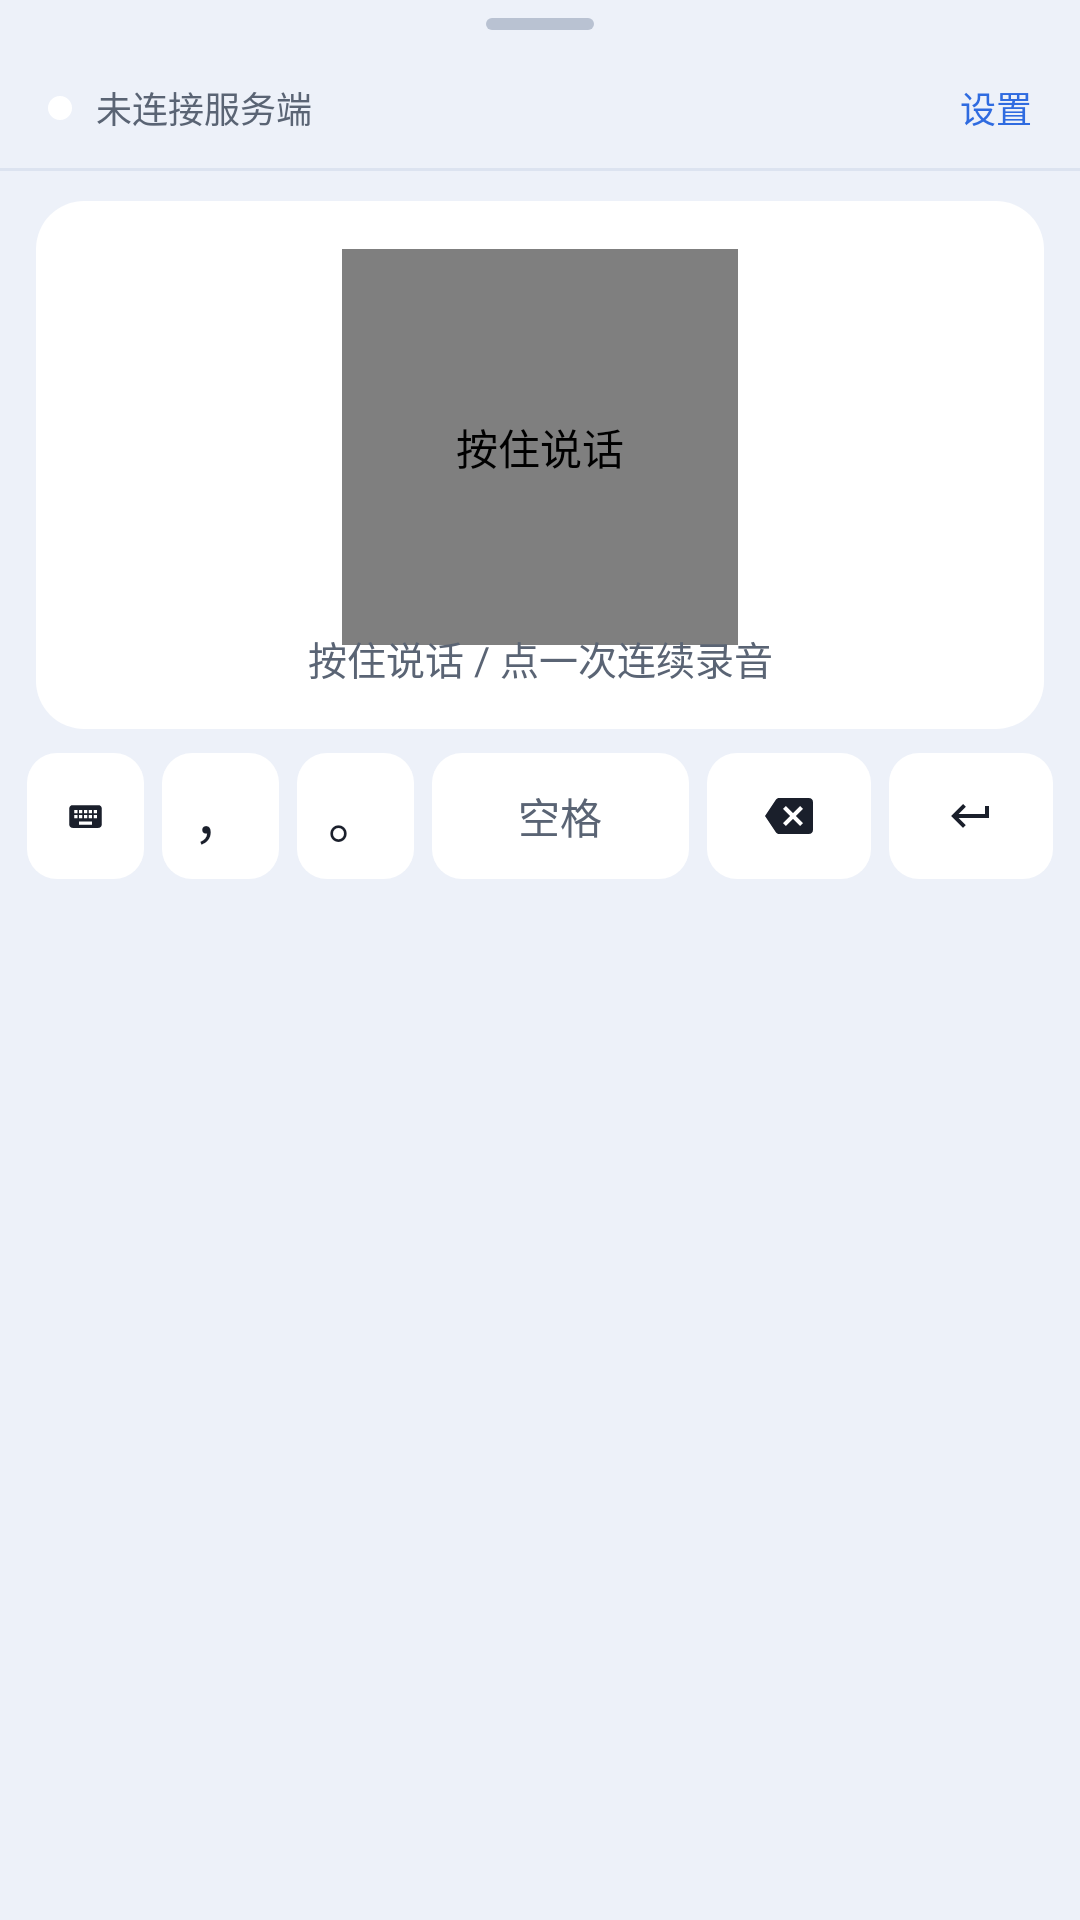

Icon click points for this 1080x1920 phone screenshot, format (x=x, y=y):
keyboard: (x=85, y=816)
换行: (x=971, y=816)
退格: (x=789, y=816)
